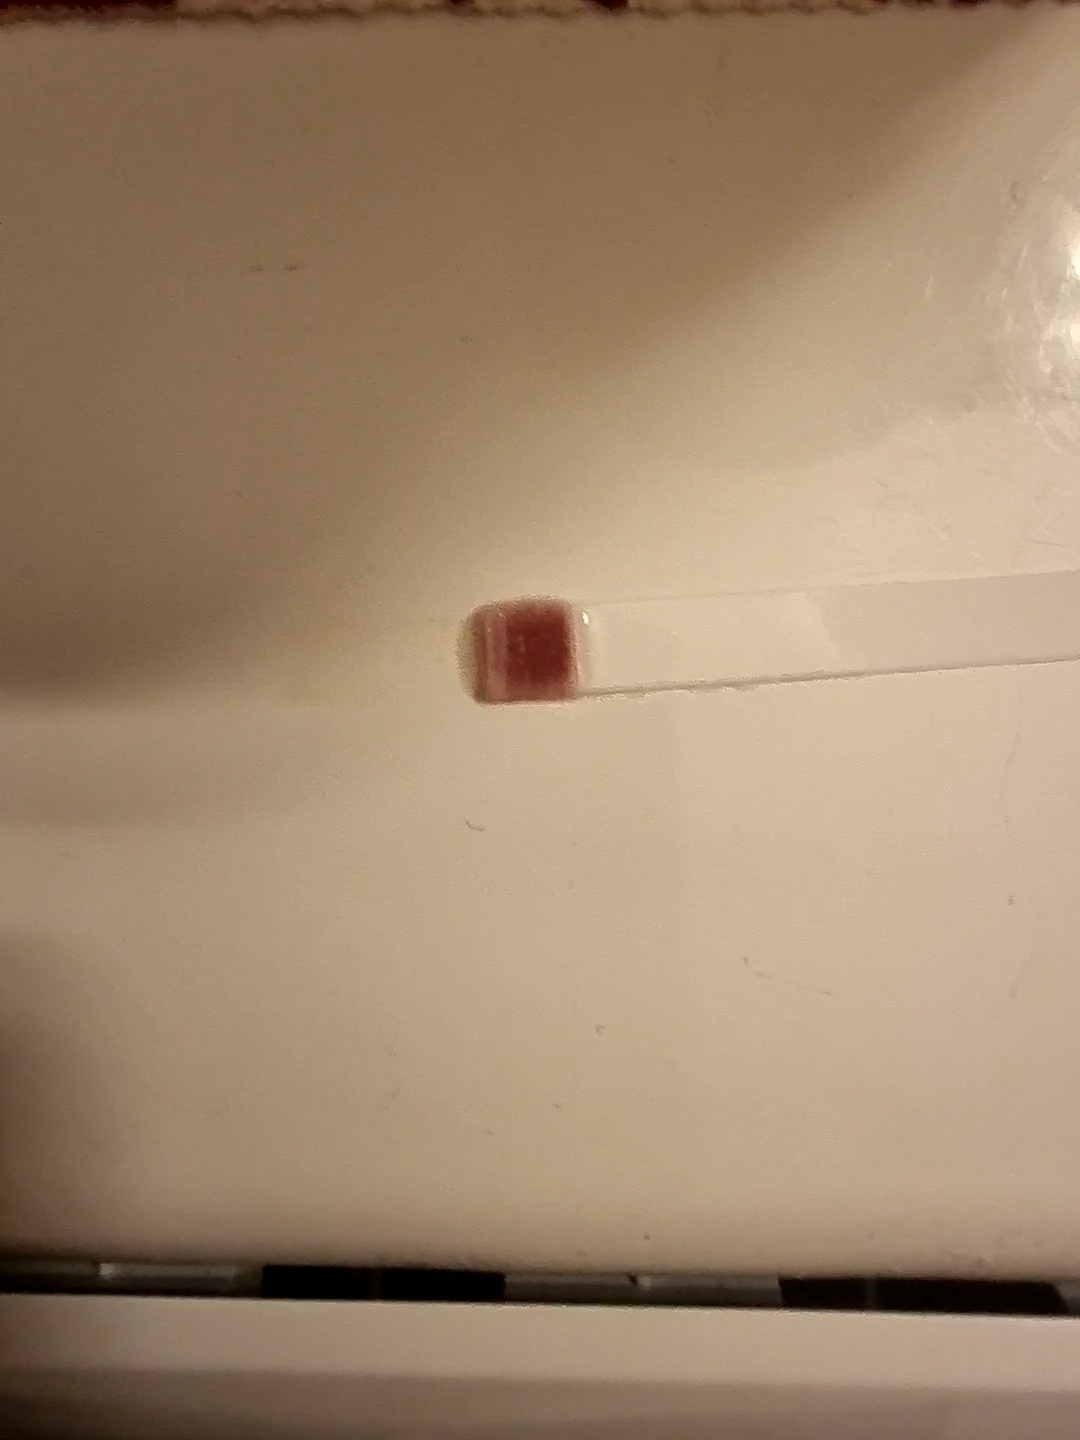keto-tip: (459, 596, 593, 712)
